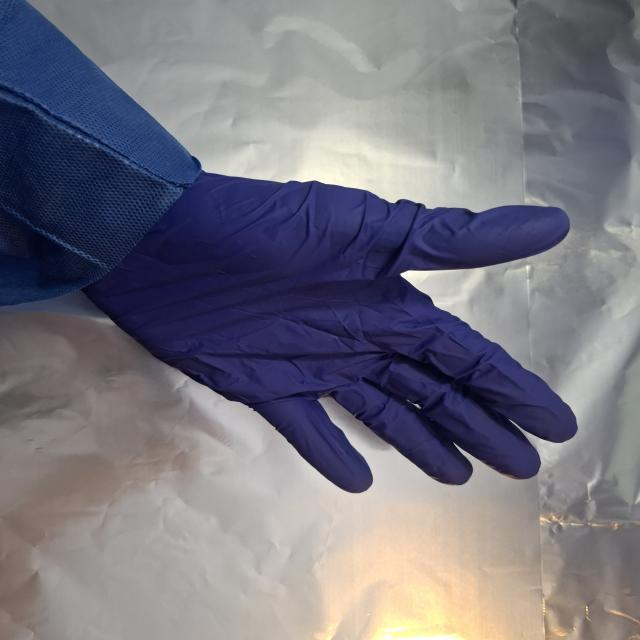glove_on: (78, 170, 582, 497)
